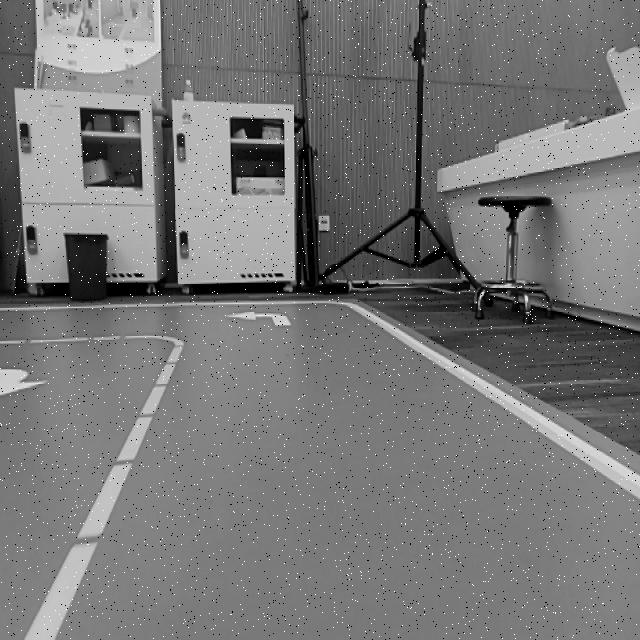left_lane: (24, 343, 185, 639)
right_lane: (347, 303, 640, 499)
